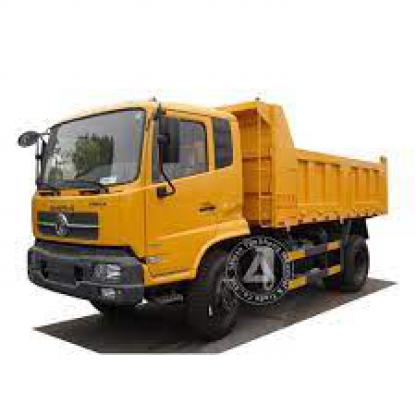tiper: (20, 81, 392, 329)
